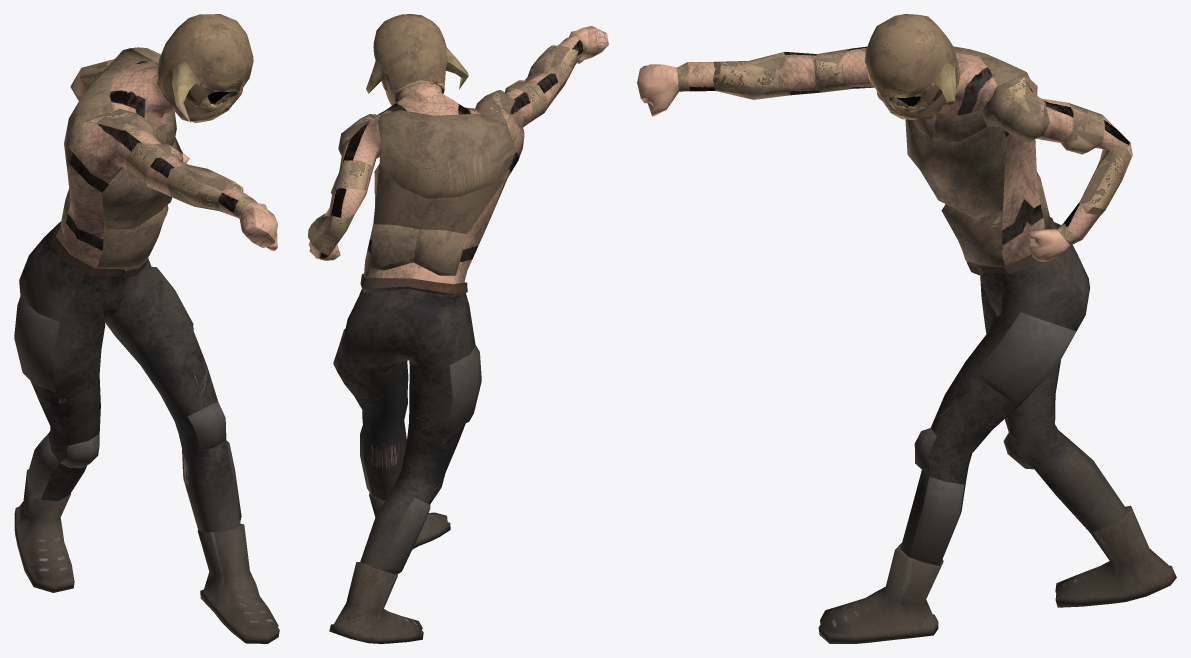
Rendered from Anim_ataque_d2_npc1.0021.obj.
3 renders of one model, left to right at view 1: azimuth 30°, elevation 25°; view 2: azimuth 150°, elevation 25°; view 3: azimuth 270°, elevation 25°, orthographic. The views are drawn at different scales.
Visible parts, largest first — view 1: NPC2; view 2: NPC2; view 3: NPC2.
Boxes of the visible parts, <box> form: NPC2: <box>14,14,279,643</box>; NPC2: <box>308,14,608,643</box>; NPC2: <box>637,14,1176,643</box>.
Size of the model in its own units: 2.57 by 8.75 by 6.87.
